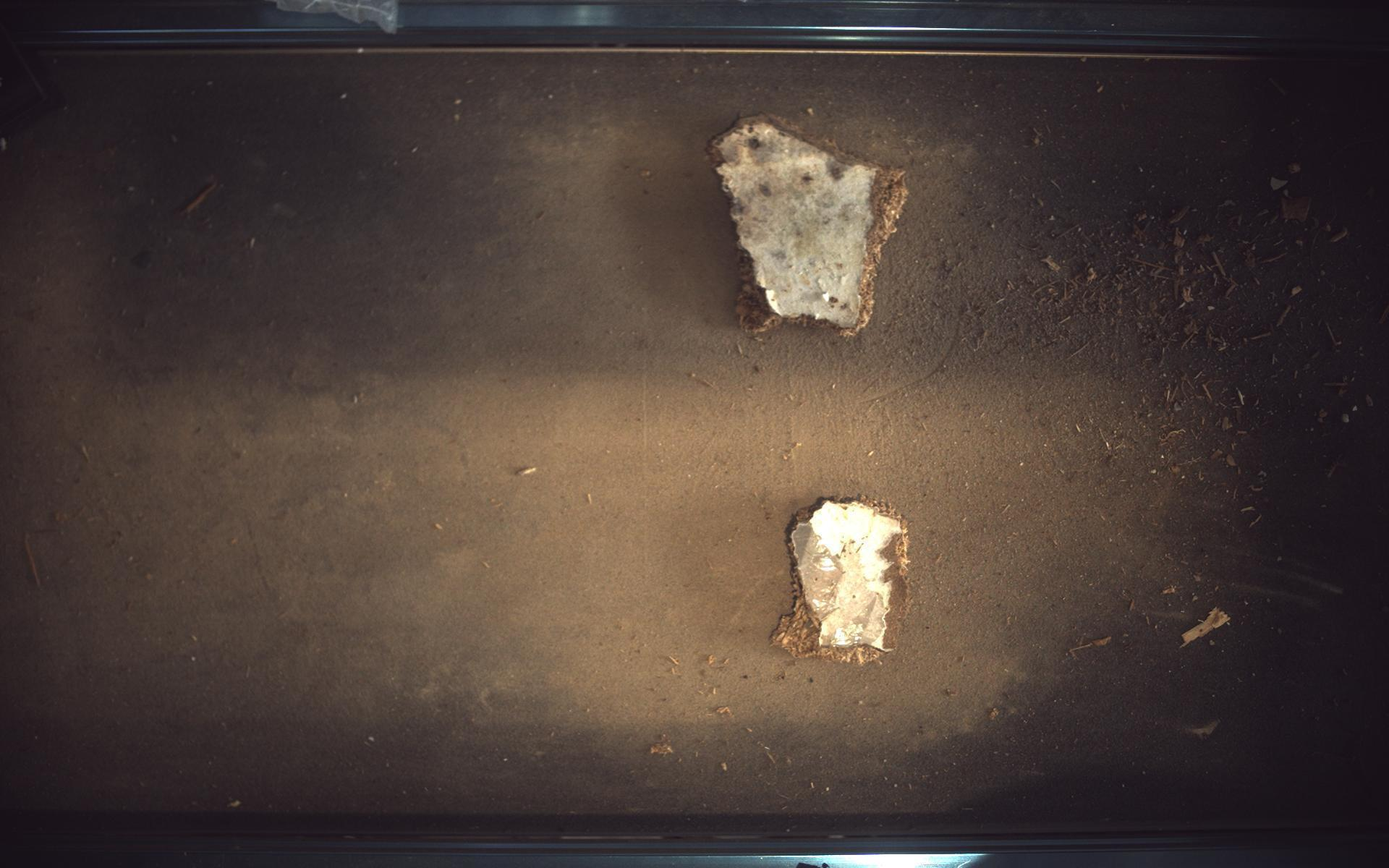wood: (709, 115, 909, 336), (773, 498, 912, 665)
